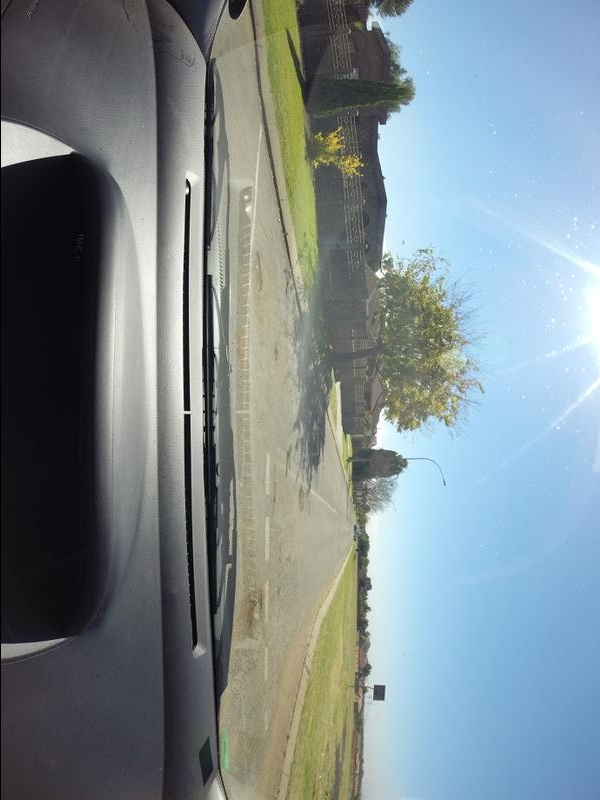pothole: (249, 249, 268, 312), (234, 600, 262, 642), (269, 468, 279, 526), (292, 486, 311, 507)
